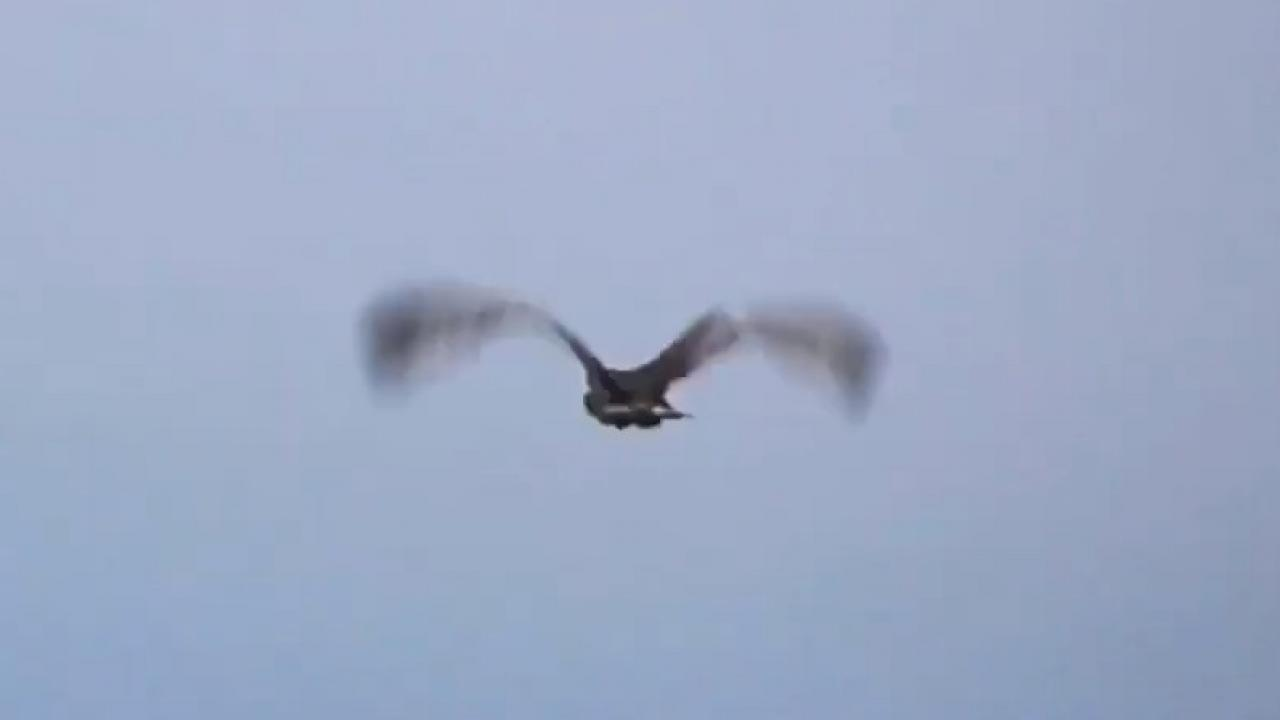Bird: (349, 266, 902, 452)
